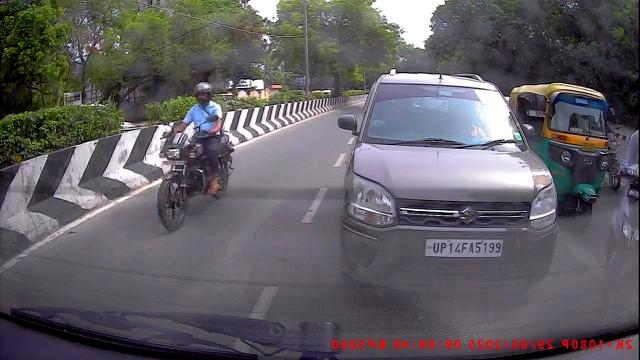motorcycle_with_helmet: (145, 79, 238, 236)
